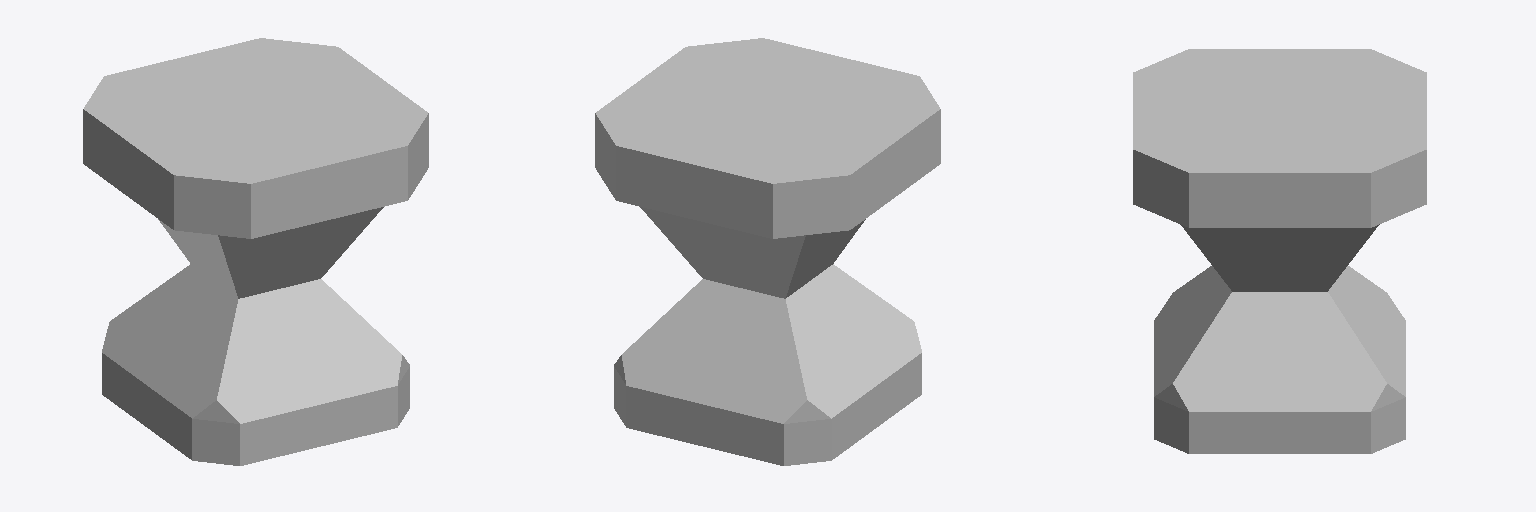
Rendered from Hourglass_Topping.obj.
3 renders of one model, left to right at view 1: azimuth 30°, elevation 25°; view 2: azimuth 150°, elevation 25°; view 3: azimuth 270°, elevation 25°, orthographic.
Parts seen in each view (by area): view 1: Hourglass; view 2: Hourglass; view 3: Hourglass.
Part boxes in pixels (x1,y1,x2,y2): Hourglass: (83, 38, 428, 465); Hourglass: (595, 38, 940, 465); Hourglass: (1133, 49, 1426, 453).
Size of the model in its own units: 2 by 2.17 by 2.